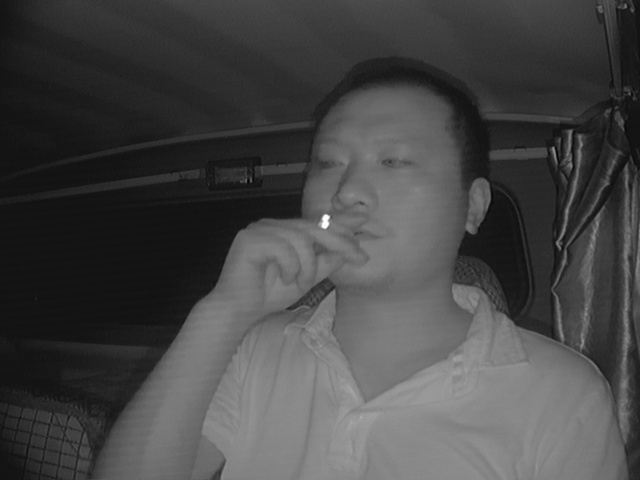hand: (221, 207, 375, 320)
